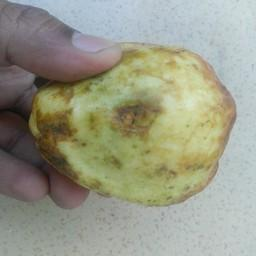Bad_guava: (31, 46, 237, 205)
